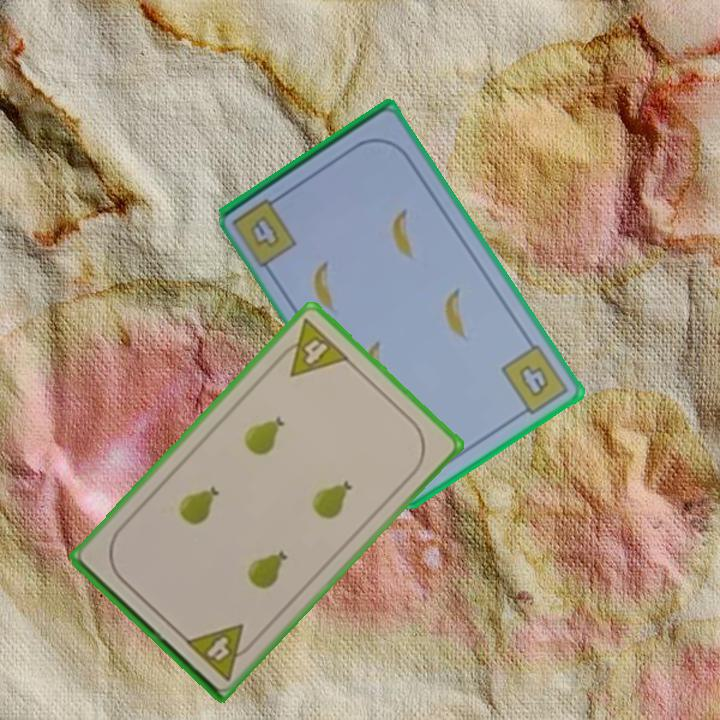4b: (498, 341, 572, 421), (246, 212, 283, 252)
4p: (271, 314, 352, 380), (181, 620, 260, 683)
